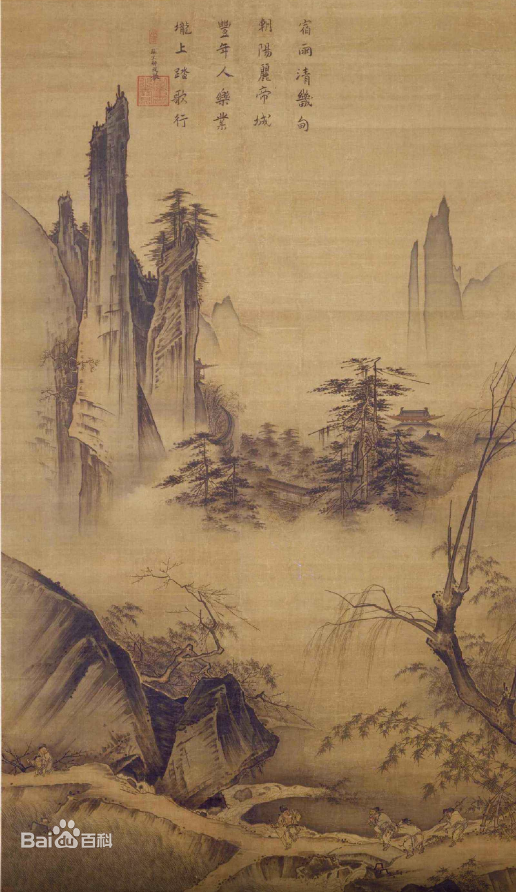house: (386, 404, 452, 445)
kid: (26, 755, 48, 778), (37, 745, 54, 773)
man: (394, 818, 432, 862), (367, 807, 399, 849), (437, 807, 467, 848), (273, 807, 303, 847)
mountain: (48, 82, 235, 491), (398, 182, 506, 376)
tree: (314, 360, 512, 826), (97, 566, 292, 702), (312, 348, 413, 520), (173, 432, 260, 530)
